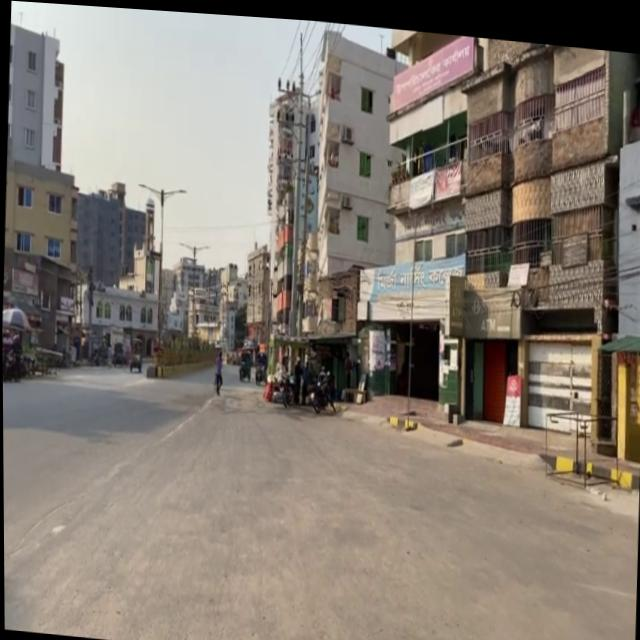Construction-barrier: (143, 345, 216, 380)
Fallen-tree: (306, 363, 338, 410), (274, 365, 296, 404), (2, 342, 23, 382), (252, 358, 265, 381), (127, 350, 141, 370), (237, 356, 249, 377)
Garbage: (540, 398, 618, 484)
Garbage-bin: (211, 346, 223, 392)
Pothole: (336, 382, 640, 482)
